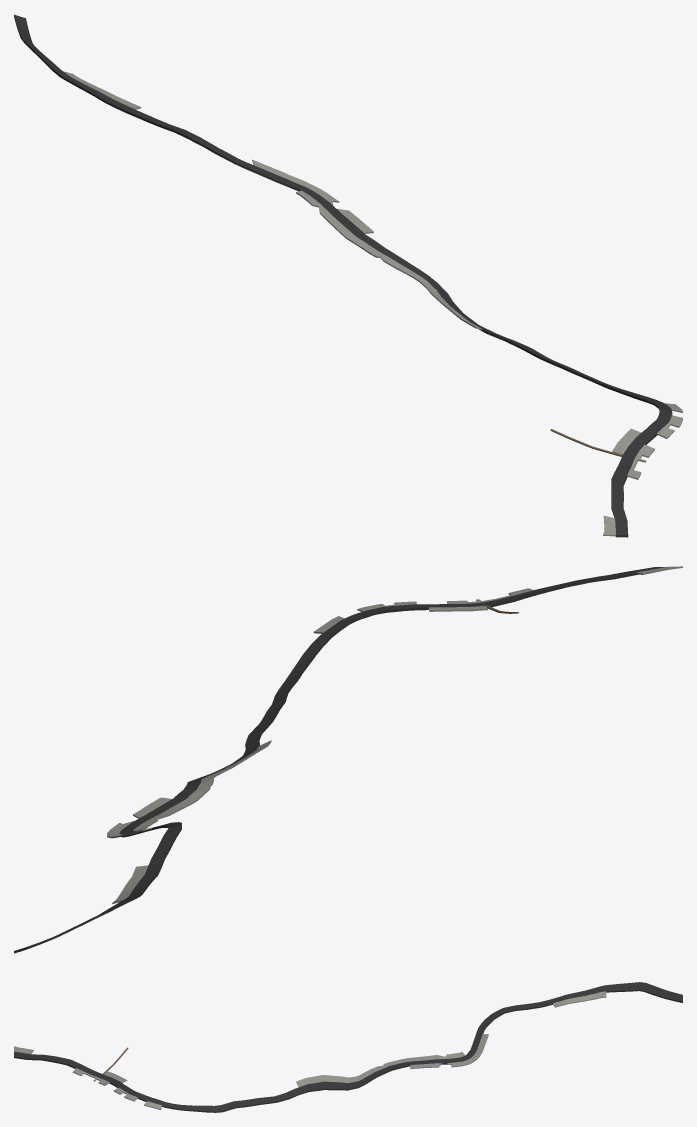
3 renders of one model, top to bottom at view 1: azimuth 30°, elevation 25°; view 2: azimuth 150°, elevation 25°; view 3: azimuth 270°, elevation 25°, orthographic. The views are drawn at different scales.
Bounding box in the file's own units: 133 × 68.97 × 583.
